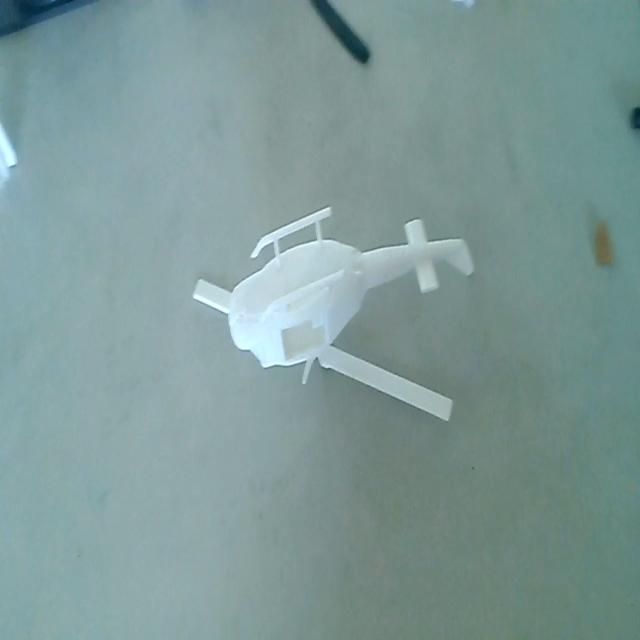Helicopter: (186, 199, 474, 426)
